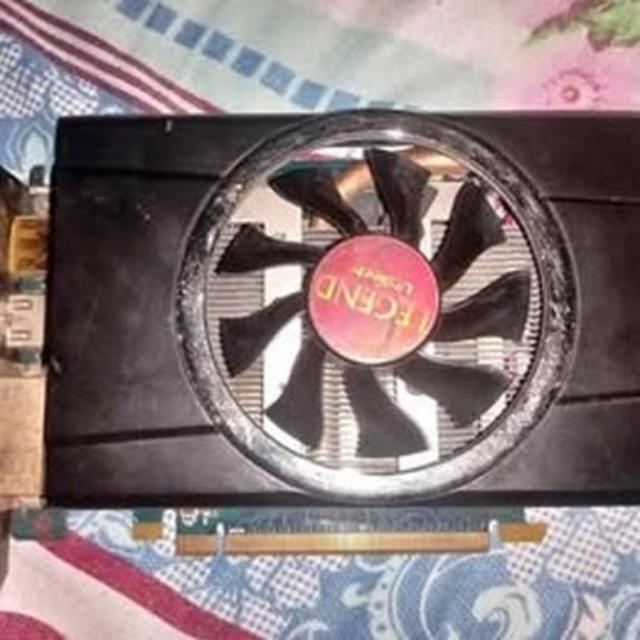GPU: (0, 92, 640, 572)
